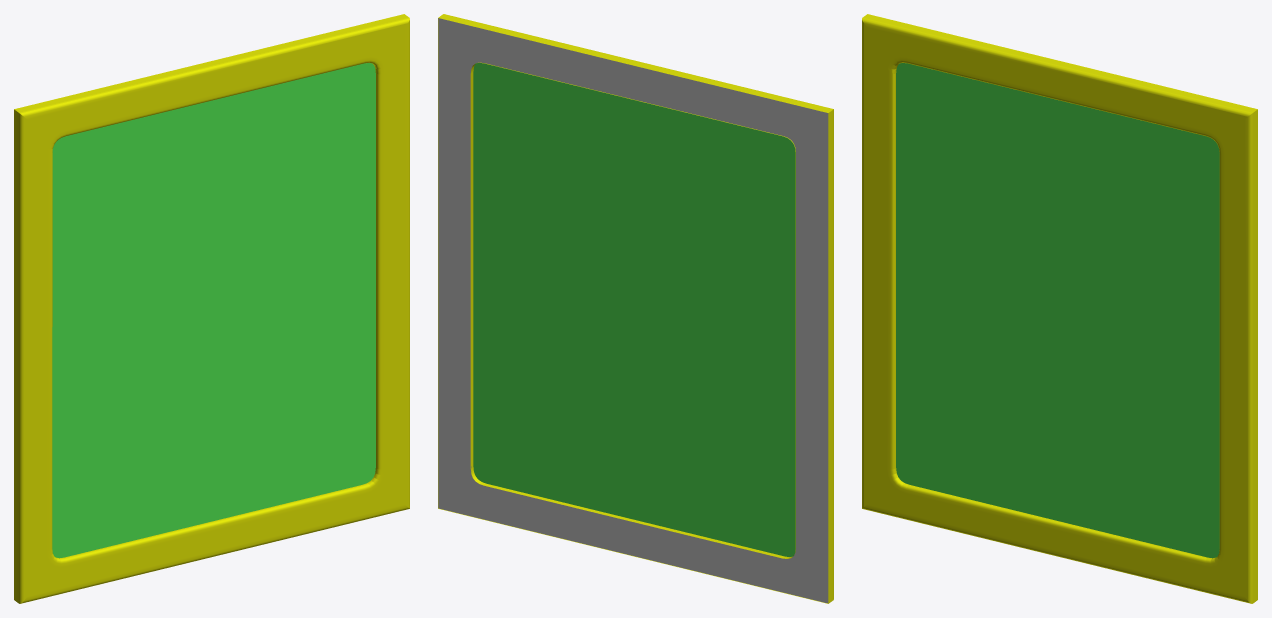
Rendered from mdf_frame.fbx.
The picture shows the model from 3 angles, left to right: view 1: azimuth 30°, elevation 25°; view 2: azimuth 150°, elevation 25°; view 3: azimuth 330°, elevation 25°; orthographic projection.
Visible parts, largest first — view 1: 2_glass_xyz, 1_gen_xyz; view 2: 2_glass_xyz, 3_back_xyz, 1_gen_xyz; view 3: 2_glass_xyz, 1_gen_xyz.
Part boxes in pixels (x1,y1,x2,y2): 2_glass_xyz: (52,63,375,558); 1_gen_xyz: (14,14,409,603); 2_glass_xyz: (473,63,795,556); 3_back_xyz: (438,18,828,603); 1_gen_xyz: (438,14,833,603); 2_glass_xyz: (896,63,1219,558); 1_gen_xyz: (862,14,1257,603).
Size of the model in its own units: 59.6 by 71.6 by 1.8.
